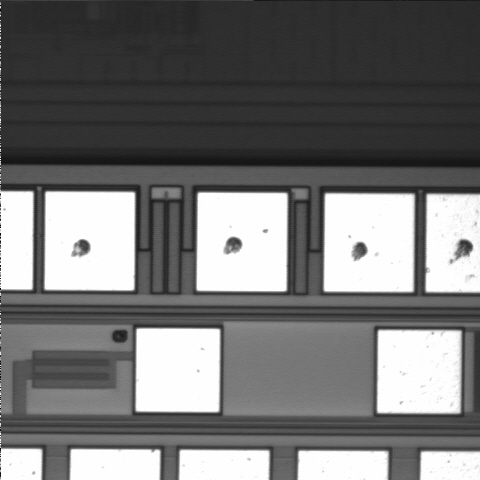pad: (45, 192, 135, 290), (197, 193, 287, 291), (324, 194, 414, 292), (136, 329, 220, 412), (377, 330, 461, 413)
